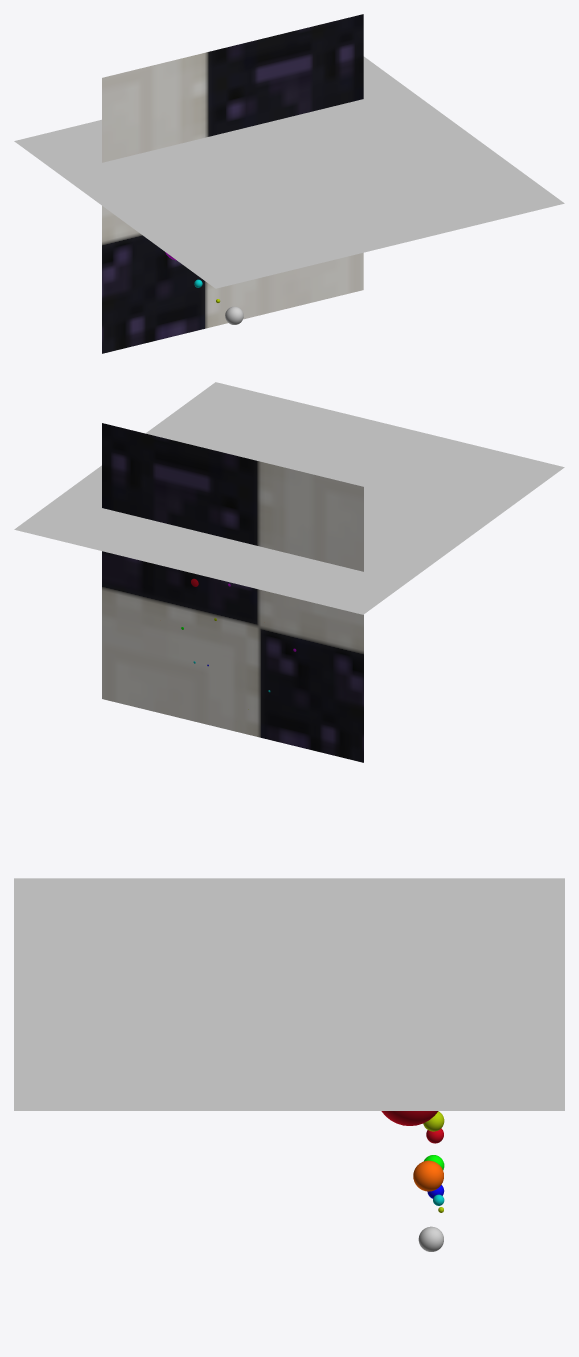
The model's file is fin.obj.
3 views of the same model, one above another, from view 1: azimuth 30°, elevation 25°; view 2: azimuth 150°, elevation 25°; view 3: azimuth 270°, elevation 25° (orthographic). The views are drawn at different scales.
Visible parts, largest first — view 1: Plane.001, Plane; view 2: Plane, Plane.001; view 3: Plane.001, Sphere.010.
Boxes of the visible parts, x1,y1,x2,y2 form: Plane.001: (14,56,564,288); Plane: (102,14,363,353); Plane: (102,423,363,762); Plane.001: (14,382,564,614); Plane.001: (14,878,564,1110); Sphere.010: (413,1160,443,1191).
Size of the model in its own units: 11.82 by 8.92 by 11.82.
Materials: 15 (1 with a texture image).
